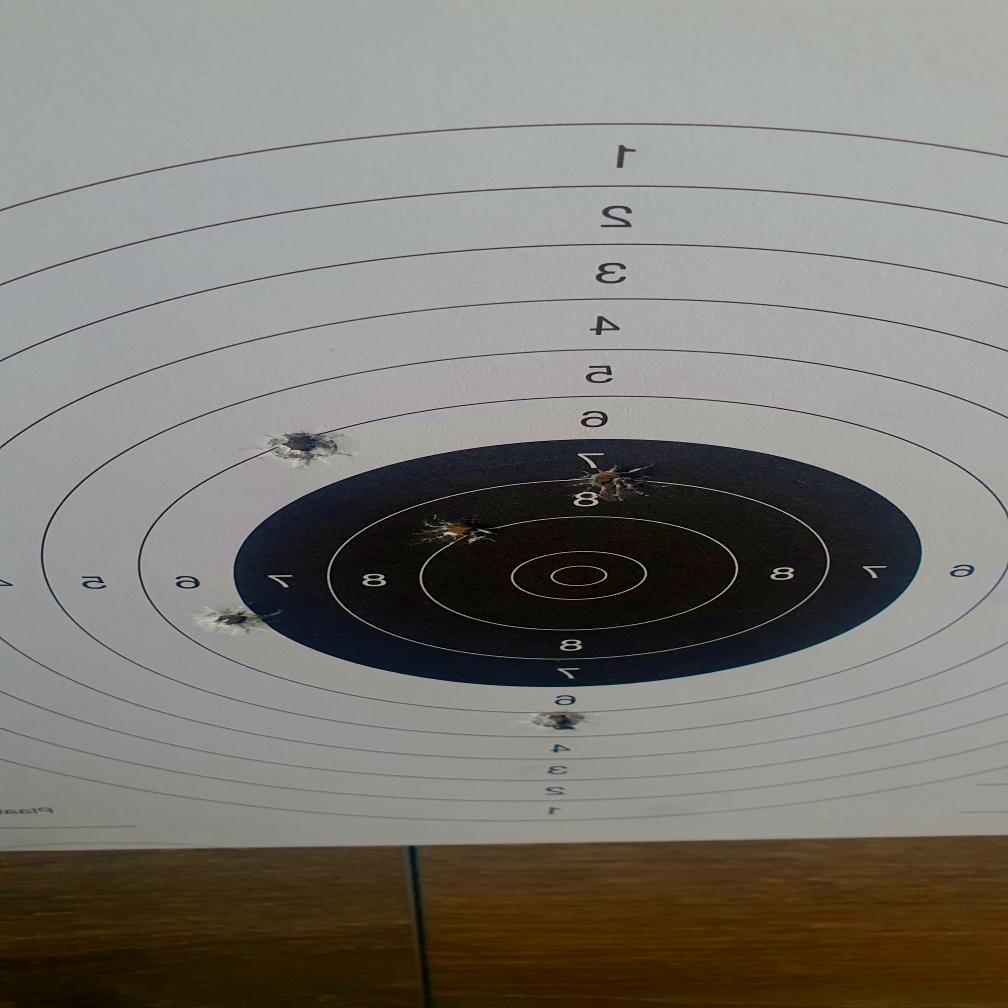6: (246, 429, 354, 467), (525, 710, 593, 732)
7: (190, 603, 284, 637)
8: (572, 463, 670, 503)
9: (409, 512, 500, 552)
Target: (0, 121, 1008, 824)
black_contour: (234, 438, 925, 690)
